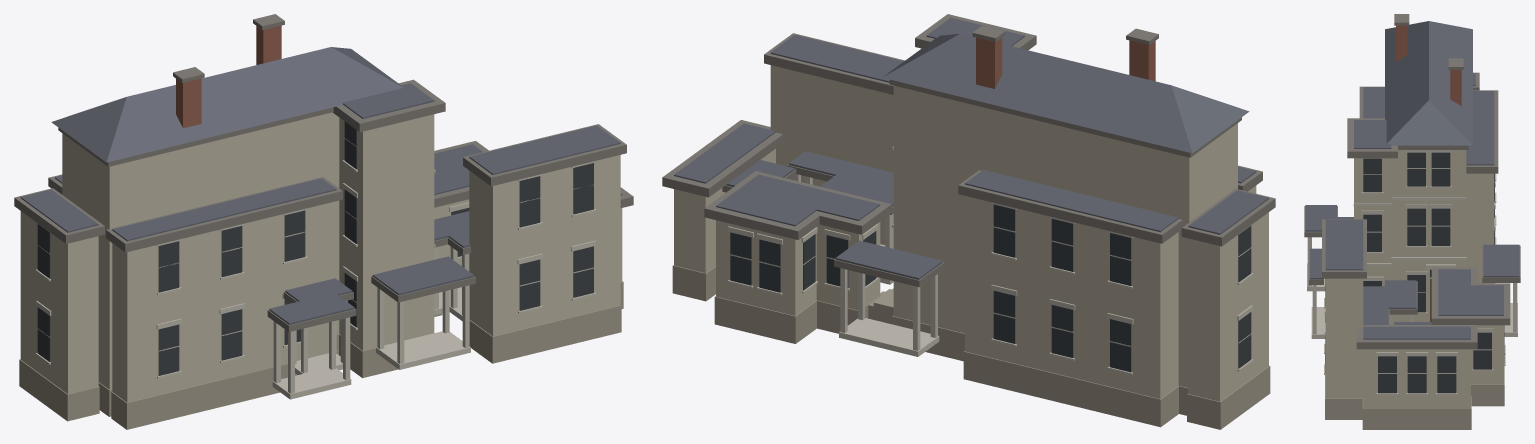
The model's file is house_2000_prairie__draft_1904.glb.
3 views of the same model, side by side, from view 1: azimuth 30°, elevation 25°; view 2: azimuth 150°, elevation 25°; view 3: azimuth 270°, elevation 25° (orthographic). The views are drawn at different scales.
Visible parts, largest first — view 1: house_2000_prairie__draft_1904; view 2: house_2000_prairie__draft_1904; view 3: house_2000_prairie__draft_1904.
Boxes of the visible parts, x1,y1,x2,y2 form: house_2000_prairie__draft_1904: (14,14,633,429); house_2000_prairie__draft_1904: (662,14,1275,429); house_2000_prairie__draft_1904: (1304,14,1520,429).
Size of the model in its own units: 26.55 by 14.87 by 11.55.
